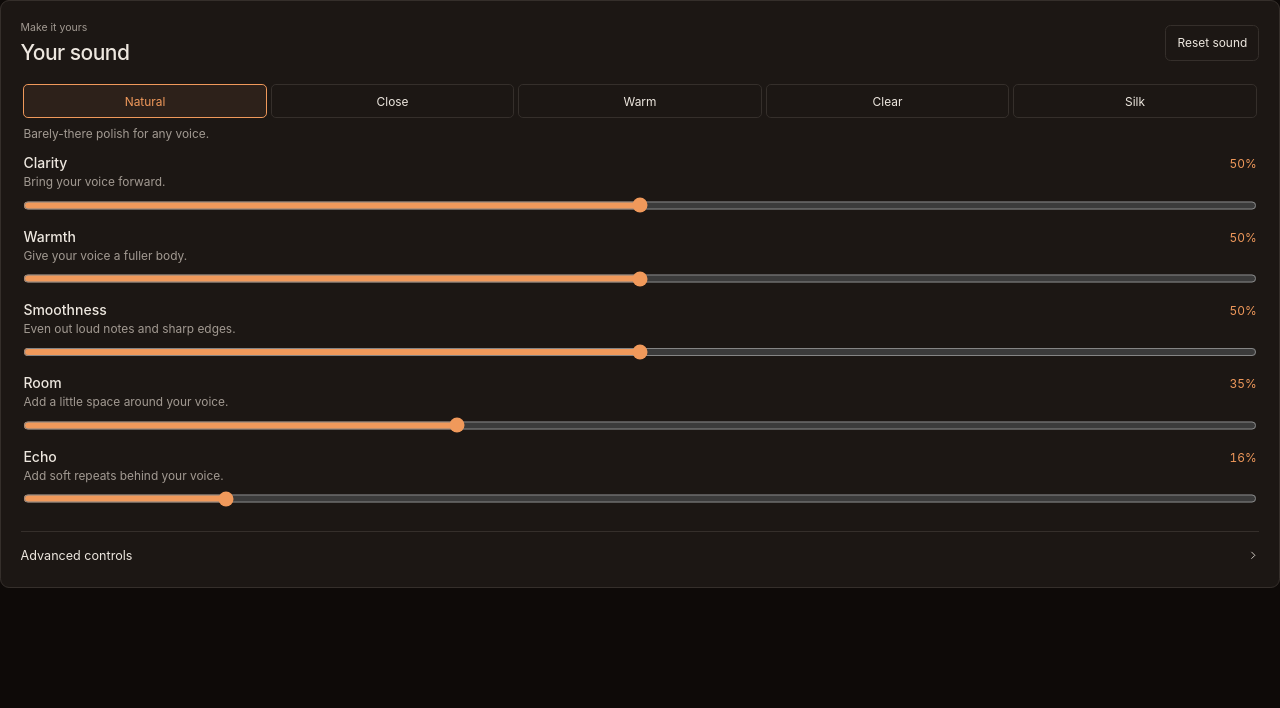
Test: EffectControls › reveals detailed studio parameters on request
Click the button "Advanced controls": (77, 555) [21,531,1259,567]
(page scrolled)
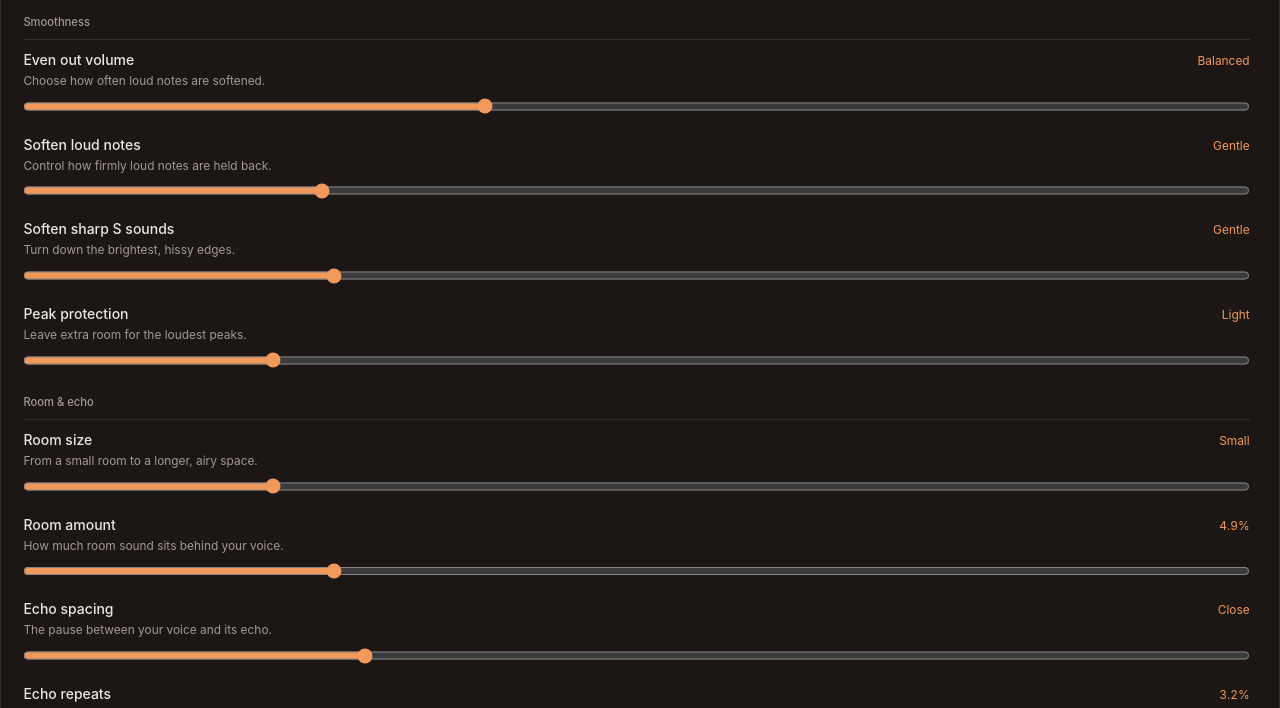
Check: the slider labelled "Soften sharp S sounds" is shown, box [23,263,1250,288]
Check: the slider labelled "Peak protection" is shown, box [23,348,1250,373]
